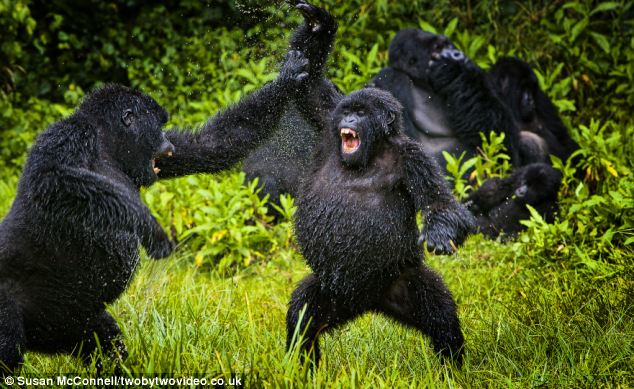Gorilla: (5, 81, 176, 367), (3, 79, 174, 365), (291, 85, 442, 343), (388, 25, 492, 131), (486, 58, 569, 156), (482, 169, 564, 231)
